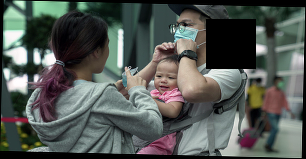with_mask: (173, 15, 208, 55)
without_mask: (153, 71, 179, 96), (95, 38, 111, 75)
